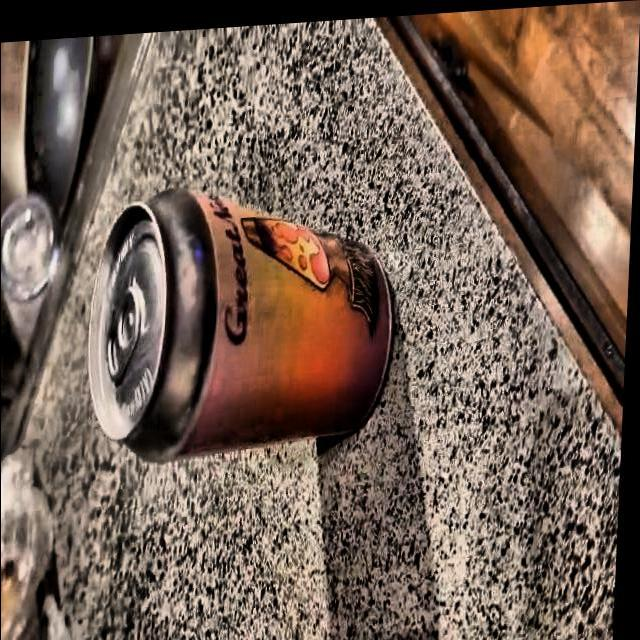litter: (74, 160, 416, 468)
